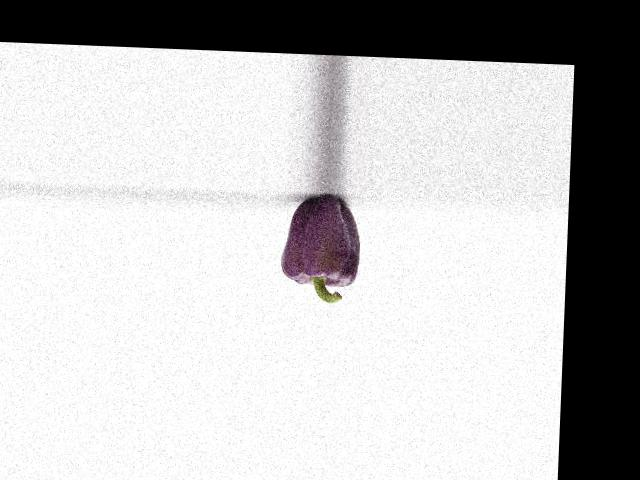bell_pepper: (273, 195, 370, 302)
